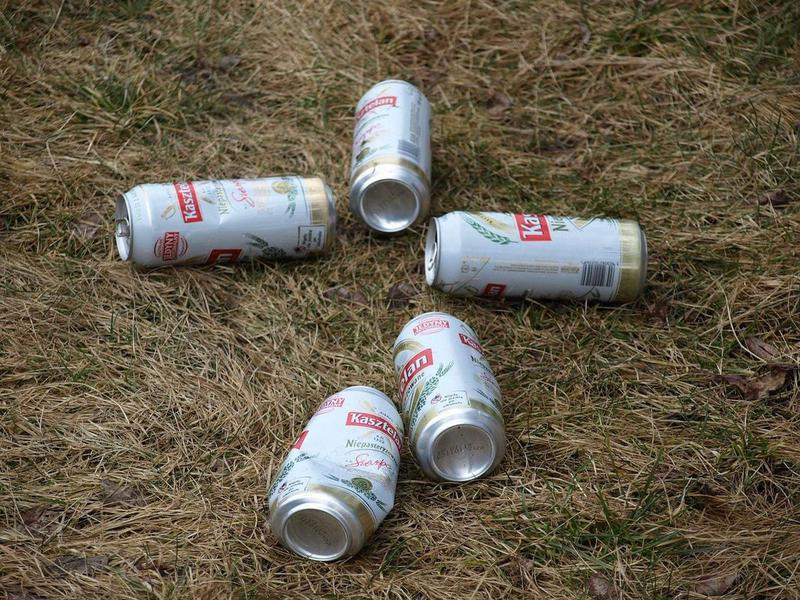can: (264, 383, 407, 566), (423, 209, 652, 310), (111, 173, 339, 268), (391, 310, 509, 489), (345, 79, 437, 234)
